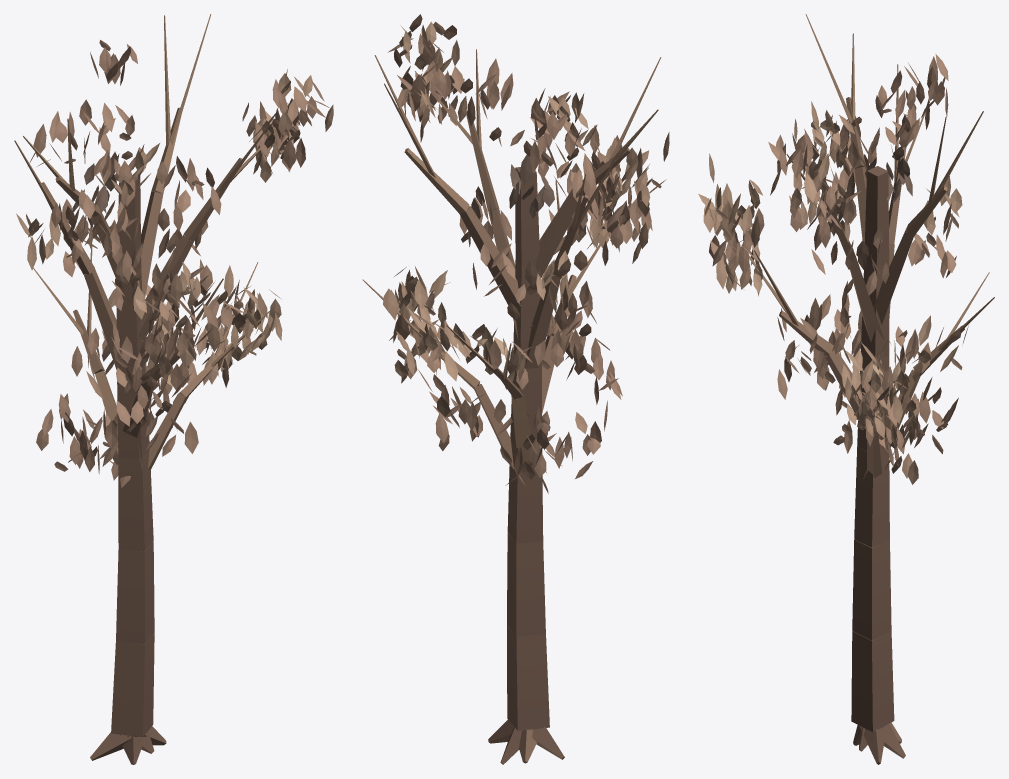
File: tree_3d_02_copper.glb
The picture shows the model from 3 angles, left to right: view 1: azimuth 30°, elevation 25°; view 2: azimuth 150°, elevation 25°; view 3: azimuth 270°, elevation 25°; orthographic projection.
Visible parts, largest first — view 1: tree_3d_02_copper_foliage, tree_3d_02_copper_wood; view 2: tree_3d_02_copper_foliage, tree_3d_02_copper_wood; view 3: tree_3d_02_copper_foliage, tree_3d_02_copper_wood.
Part boxes in pixels (x1,y1,x2,y2): tree_3d_02_copper_foliage: [16, 40, 333, 487]; tree_3d_02_copper_wood: [14, 14, 277, 764]; tree_3d_02_copper_foliage: [383, 14, 669, 493]; tree_3d_02_copper_wood: [362, 49, 661, 764]; tree_3d_02_copper_foliage: [698, 54, 968, 484]; tree_3d_02_copper_wood: [749, 14, 994, 764].
Size of the model in its own units: 5.4 by 12.5 by 4.8.
